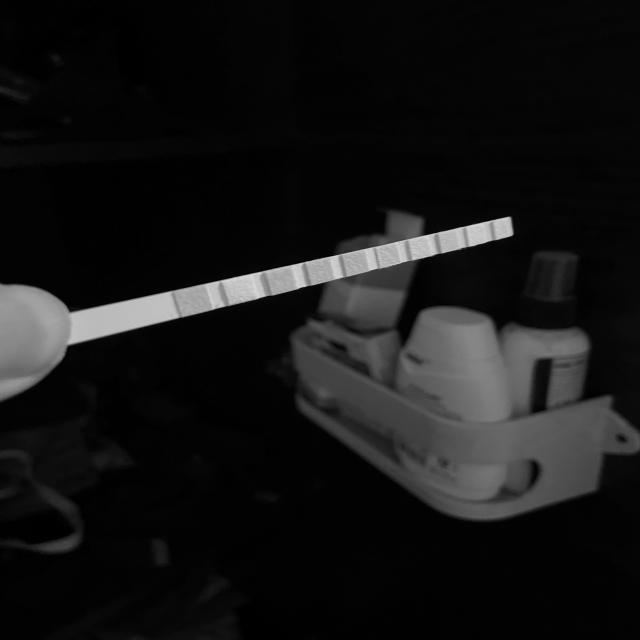Bilirubin: (230, 280, 252, 300)
Blood: (347, 253, 366, 273)
Glucose: (182, 290, 208, 312)
Ketone: (272, 270, 293, 291)
Leukocytes: (494, 220, 510, 237)
Nitrite: (468, 226, 484, 243)
Protein: (412, 239, 429, 257)
SpGravity: (310, 262, 331, 281)
Urobilinogen: (440, 232, 457, 250)
background: (0, 0, 640, 640)
pH: (382, 246, 396, 264)
strip: (71, 217, 515, 343)
